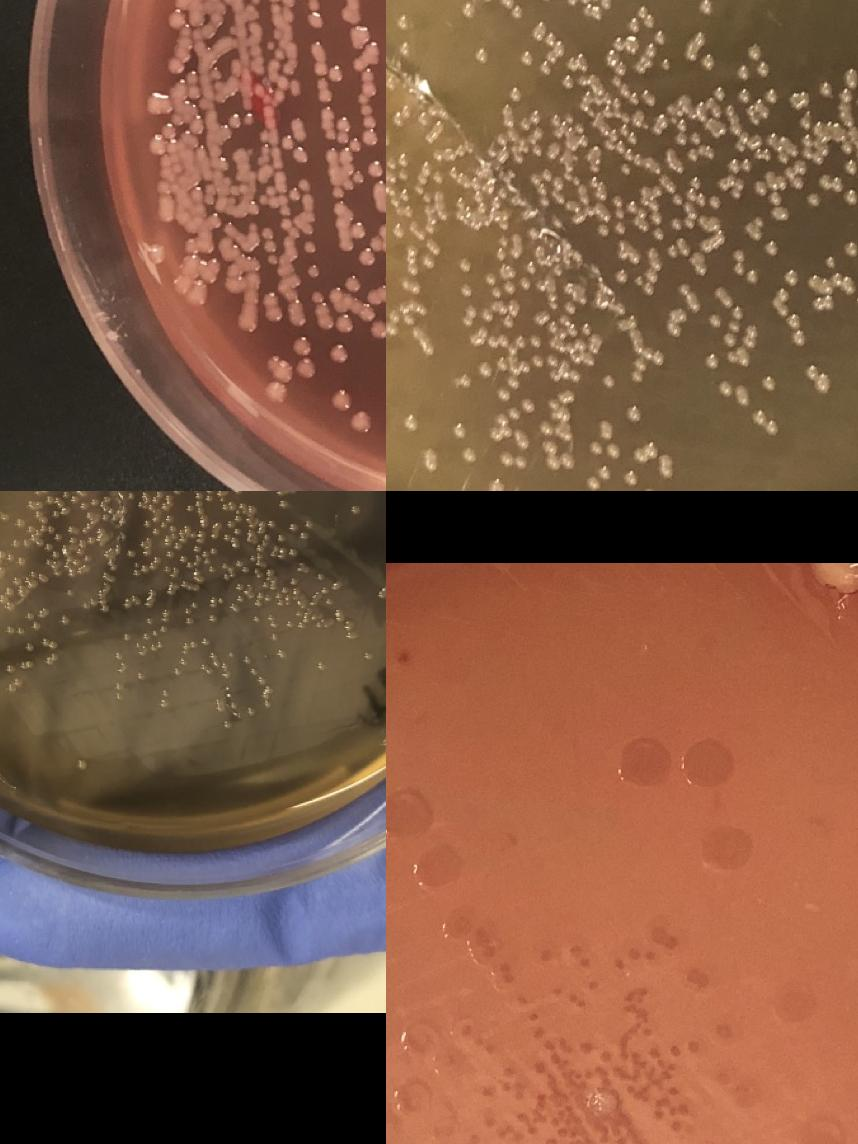assalmonicida: (612, 123, 644, 176), (608, 62, 640, 106), (684, 176, 720, 210), (482, 265, 515, 299), (540, 440, 575, 470), (469, 326, 510, 348), (32, 510, 60, 542), (273, 576, 300, 608), (516, 110, 544, 140), (784, 312, 807, 348), (782, 160, 808, 190), (682, 32, 706, 64), (838, 68, 858, 106), (632, 45, 656, 75), (576, 0, 612, 20), (184, 491, 213, 514), (0, 576, 18, 612), (496, 374, 519, 402), (796, 113, 814, 148), (586, 466, 610, 491), (394, 152, 412, 184), (34, 538, 60, 560), (630, 274, 656, 295), (508, 400, 534, 420), (206, 650, 228, 672), (634, 4, 654, 28), (630, 358, 648, 384), (180, 636, 209, 652), (644, 249, 664, 272), (632, 443, 656, 462), (0, 550, 25, 568), (530, 144, 558, 160), (498, 452, 526, 468), (673, 131, 702, 146), (460, 303, 477, 328), (818, 175, 844, 191), (256, 518, 276, 537), (611, 37, 637, 51), (494, 301, 520, 315), (810, 297, 834, 312), (782, 267, 800, 287), (714, 288, 732, 308), (658, 454, 672, 478), (318, 586, 334, 607), (233, 558, 251, 576), (734, 386, 750, 406), (598, 419, 614, 439), (787, 92, 808, 107), (744, 326, 758, 348), (819, 79, 834, 99), (31, 491, 54, 504), (394, 14, 412, 30), (425, 450, 438, 472), (78, 498, 100, 511), (25, 612, 40, 631), (804, 362, 818, 382), (764, 240, 778, 260), (493, 356, 510, 372), (461, 447, 478, 463), (570, 210, 586, 226), (558, 389, 574, 405), (396, 40, 412, 56), (390, 112, 406, 128), (158, 687, 170, 708), (42, 652, 60, 666), (452, 422, 467, 438), (403, 415, 418, 431), (461, 3, 476, 18), (762, 88, 778, 102), (488, 428, 504, 442), (392, 223, 406, 239), (78, 536, 96, 548), (39, 638, 57, 650), (7, 678, 22, 692), (62, 491, 79, 503), (18, 659, 36, 670), (844, 242, 858, 256), (772, 207, 786, 221), (754, 62, 768, 76), (752, 181, 766, 195), (736, 66, 750, 80), (711, 87, 725, 101), (704, 354, 718, 368), (700, 55, 714, 69), (684, 149, 698, 163), (665, 245, 679, 259), (658, 57, 672, 71), (652, 31, 666, 45), (651, 351, 665, 365), (651, 228, 665, 242), (648, 184, 662, 198), (626, 408, 640, 422), (622, 471, 636, 485), (614, 269, 628, 283), (612, 220, 626, 234), (606, 444, 620, 458), (598, 373, 612, 387), (596, 223, 610, 237), (588, 440, 602, 454), (576, 322, 590, 336), (572, 338, 586, 352), (566, 370, 580, 384), (562, 300, 576, 314), (559, 76, 573, 90), (542, 33, 556, 47), (538, 61, 552, 75), (534, 310, 548, 324), (530, 354, 544, 368), (516, 436, 530, 450), (516, 275, 530, 289), (509, 6, 523, 20), (506, 87, 520, 101), (500, 317, 514, 331), (494, 133, 508, 147), (474, 48, 488, 62), (458, 373, 472, 387), (843, 191, 857, 204), (842, 163, 856, 176), (806, 193, 820, 206), (747, 46, 761, 59), (736, 91, 750, 104), (669, 193, 683, 206), (642, 94, 656, 107), (626, 18, 640, 31), (842, 278, 854, 292), (840, 142, 854, 154), (768, 192, 782, 204), (764, 423, 778, 435), (744, 270, 758, 282), (732, 248, 744, 262), (726, 320, 740, 332), (722, 333, 736, 345), (708, 314, 722, 326), (698, 0, 712, 12), (669, 218, 683, 230), (654, 116, 668, 128), (610, 194, 624, 206), (548, 114, 562, 126), (540, 421, 552, 435), (540, 168, 552, 182), (530, 336, 544, 348), (518, 50, 532, 62), (512, 336, 526, 348), (501, 116, 515, 128), (480, 310, 494, 322), (478, 364, 492, 376), (458, 286, 472, 298), (458, 258, 470, 272), (824, 255, 836, 267), (762, 377, 774, 389), (732, 264, 744, 276), (732, 306, 744, 318), (726, 351, 738, 363), (718, 382, 730, 394), (650, 212, 662, 224), (578, 100, 590, 112), (565, 58, 577, 70), (564, 113, 576, 125), (561, 171, 573, 183), (551, 128, 563, 140), (538, 196, 550, 208), (528, 228, 540, 240), (524, 261, 536, 273), (511, 153, 523, 165), (854, 148, 858, 162), (854, 295, 858, 307)
tmaritimum: (680, 741, 730, 789), (705, 825, 754, 873), (620, 738, 669, 786), (386, 790, 427, 838), (414, 844, 458, 887), (770, 984, 814, 1024), (392, 1077, 433, 1117), (396, 1020, 438, 1058), (465, 929, 498, 968), (798, 1117, 845, 1144), (652, 1086, 676, 1122), (442, 912, 470, 941), (498, 960, 512, 984), (566, 992, 584, 1010), (666, 1103, 686, 1117)
vharveyi: (246, 184, 292, 233), (356, 70, 380, 147), (289, 332, 318, 382), (356, 222, 386, 267), (314, 64, 344, 104), (316, 311, 356, 337), (322, 116, 351, 146), (260, 225, 278, 267), (328, 390, 354, 418), (322, 340, 348, 368), (286, 176, 311, 202), (368, 317, 386, 345), (226, 112, 255, 128), (288, 144, 308, 166), (342, 274, 362, 294), (306, 9, 324, 30), (166, 8, 184, 29), (348, 221, 366, 241), (302, 262, 320, 282), (300, 238, 318, 258), (166, 56, 184, 76), (288, 76, 305, 96), (366, 160, 384, 178), (206, 66, 224, 80), (330, 185, 345, 200), (208, 11, 223, 26), (310, 288, 324, 304), (350, 170, 364, 184)
